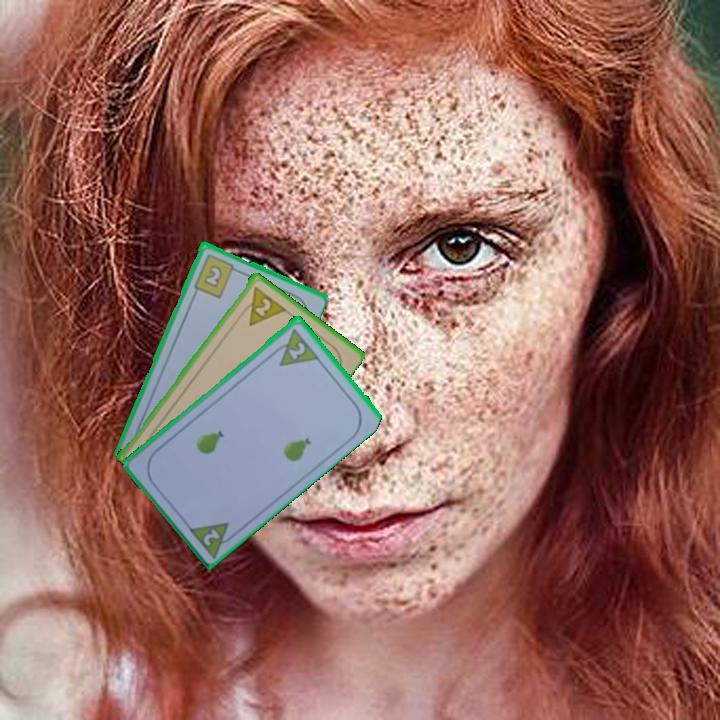2b: (190, 250, 242, 300)
2p: (236, 282, 288, 328), (268, 324, 321, 369), (199, 525, 223, 548)
